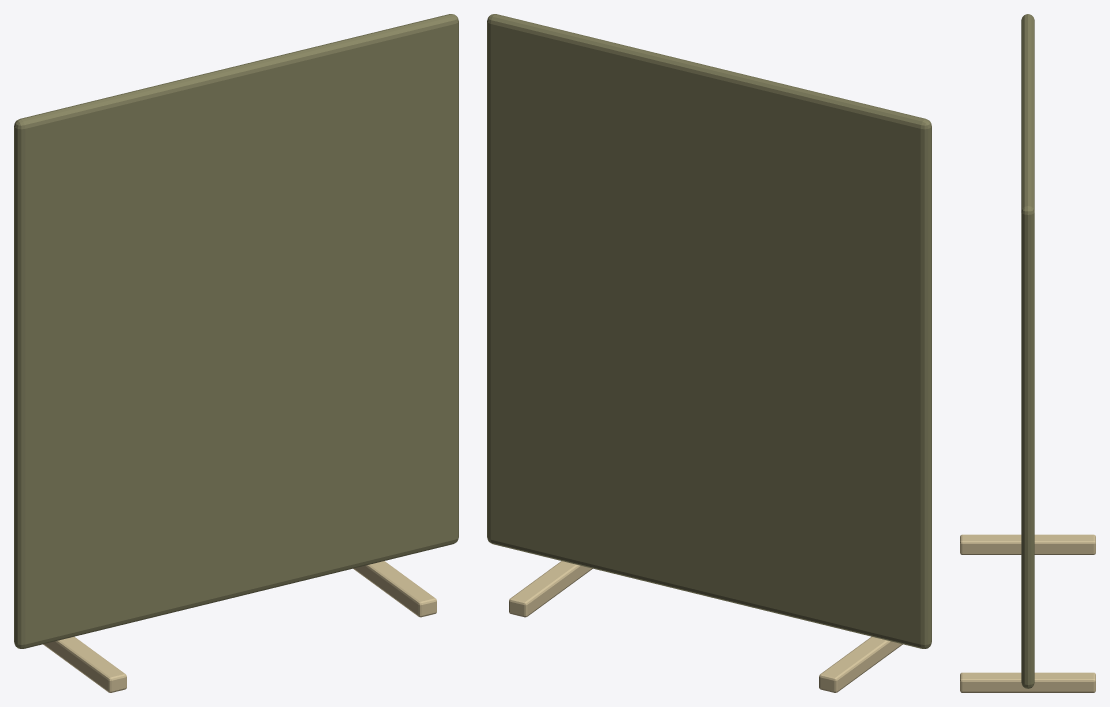
The model's file is partitions___dividers_asset_catalog_57.glb.
The picture shows the model from 3 angles, left to right: view 1: azimuth 30°, elevation 25°; view 2: azimuth 150°, elevation 25°; view 3: azimuth 270°, elevation 25°; orthographic projection. The views are drawn at different scales.
Visible parts, largest first — view 1: Cube; view 2: Cube; view 3: Cube.
Boxes of the visible parts, x1,y1,x2,y2 form: Cube: (14,14,458,692); Cube: (487,14,931,692); Cube: (960,14,1095,692).
Bounding box in the file's own units: 1.2 × 1.45 × 0.35.
